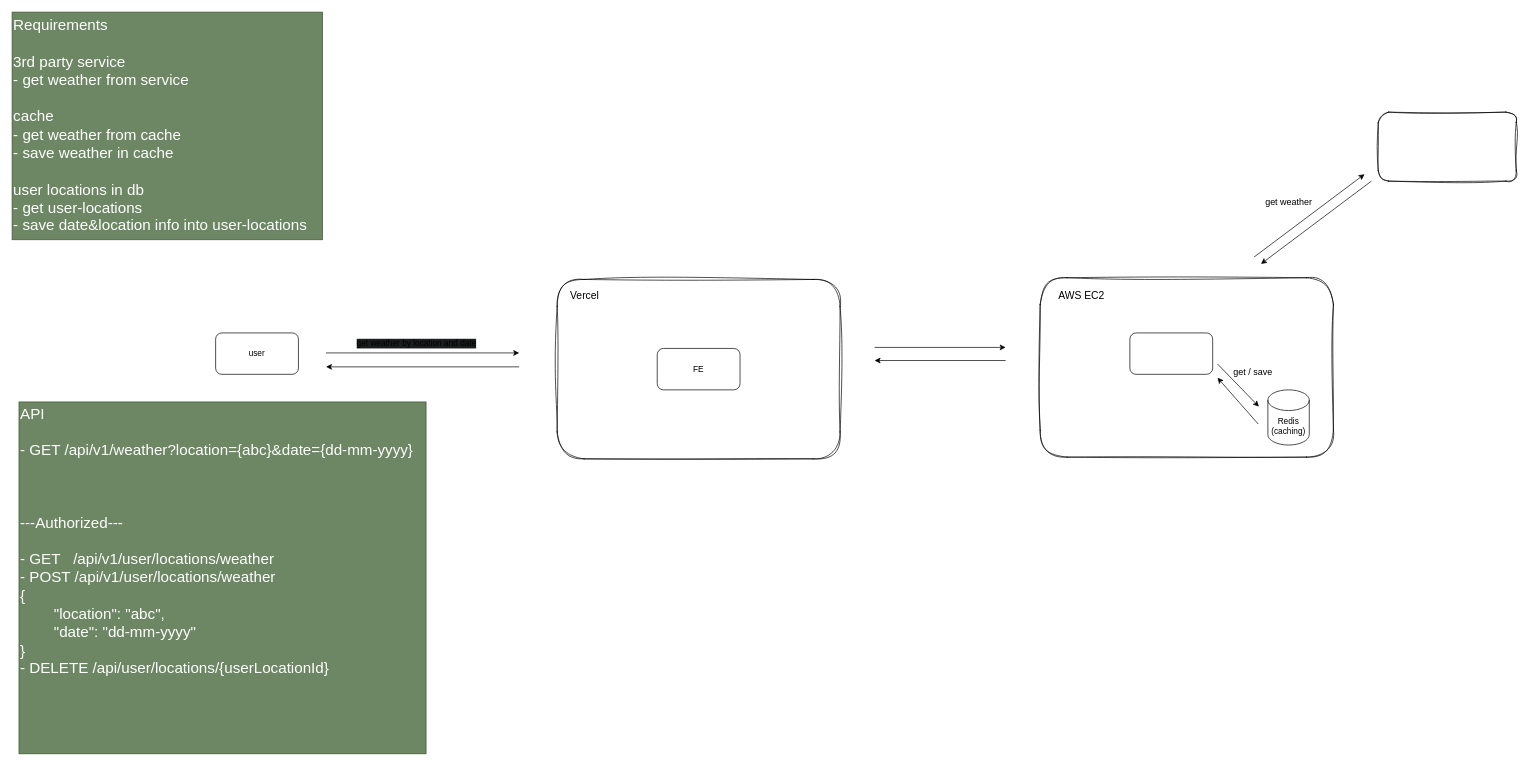
Image size: 1528x766. Some labels were removed from this diagram. Here are the shapes that lost their labels. From the top down, the centre of each, then its label:
At pixel 1447 146: "Visual Crossing (weather 3rd party service)".
At pixel 1171 353: "BE".
